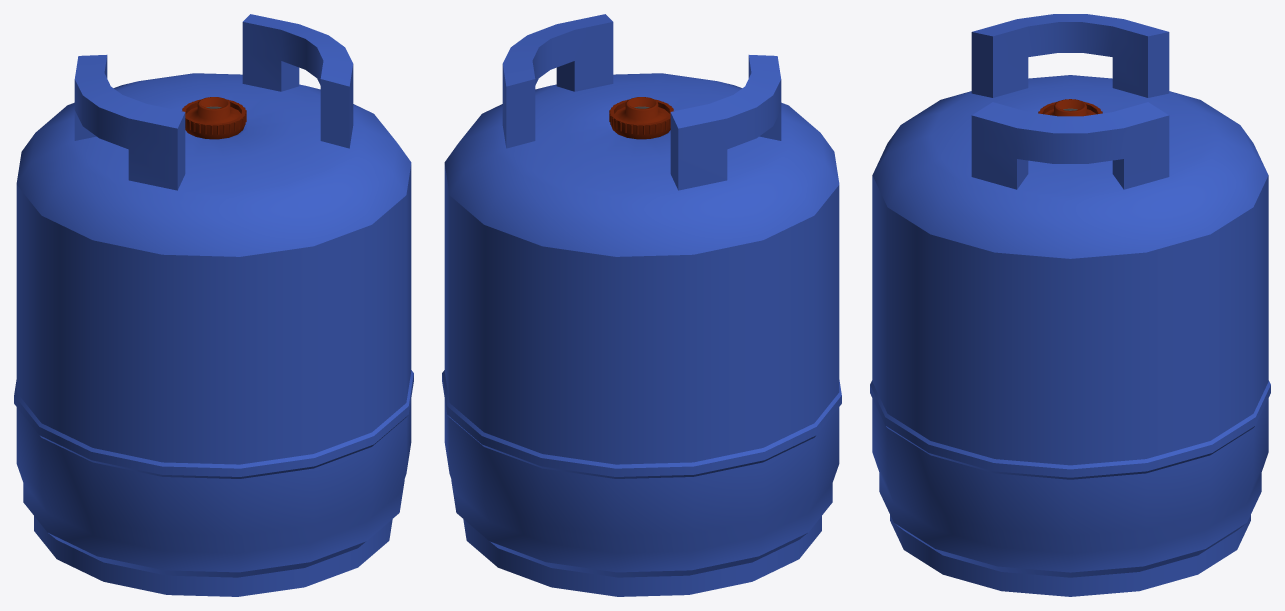
Rendered from gas1.glb.
The picture shows the model from 3 angles, left to right: view 1: azimuth 30°, elevation 25°; view 2: azimuth 150°, elevation 25°; view 3: azimuth 270°, elevation 25°; orthographic projection.
Parts seen in each view (by area): view 1: Gas1; view 2: Gas1; view 3: Gas1.
Part boxes in pixels (<box>): Gas1: <box>14,14,413,596</box>; Gas1: <box>442,14,841,596</box>; Gas1: <box>870,14,1270,596</box>.
Bounding box in the file's own units: 1.68 × 2.09 × 1.68.
